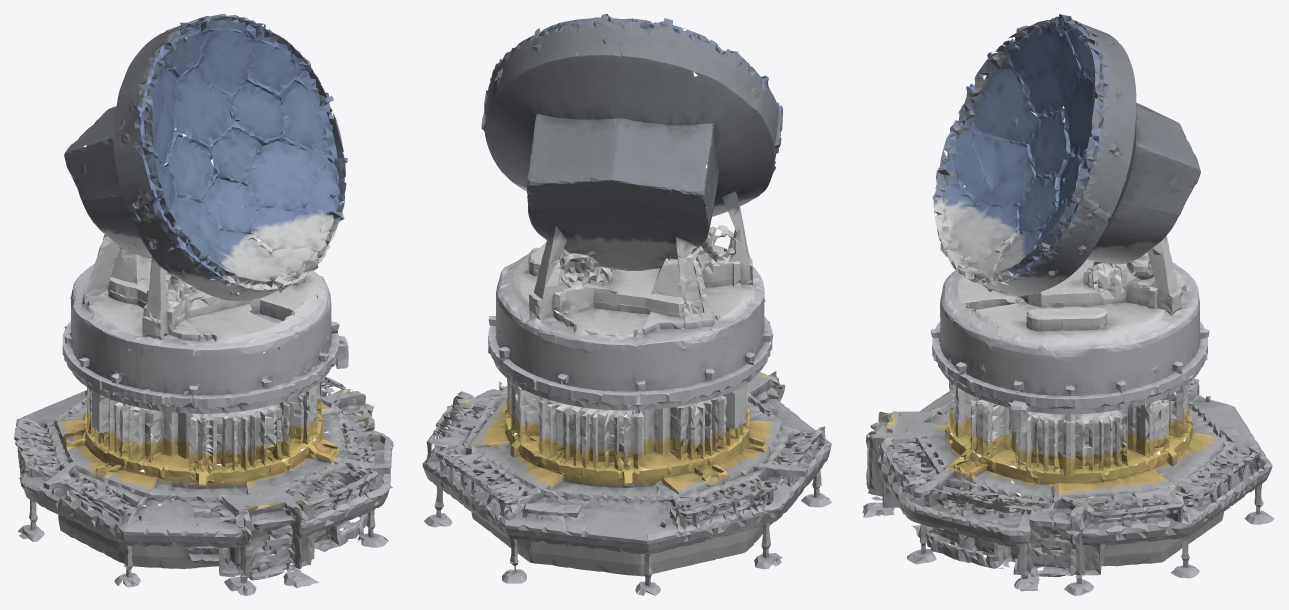
The model's file is c_laser_station.glb.
The picture shows the model from 3 angles, left to right: view 1: azimuth 30°, elevation 25°; view 2: azimuth 150°, elevation 25°; view 3: azimuth 270°, elevation 25°; orthographic projection. The views are drawn at different scales.
Bounding box in the file's own units: 0.7158 × 0.9778 × 0.7561.
